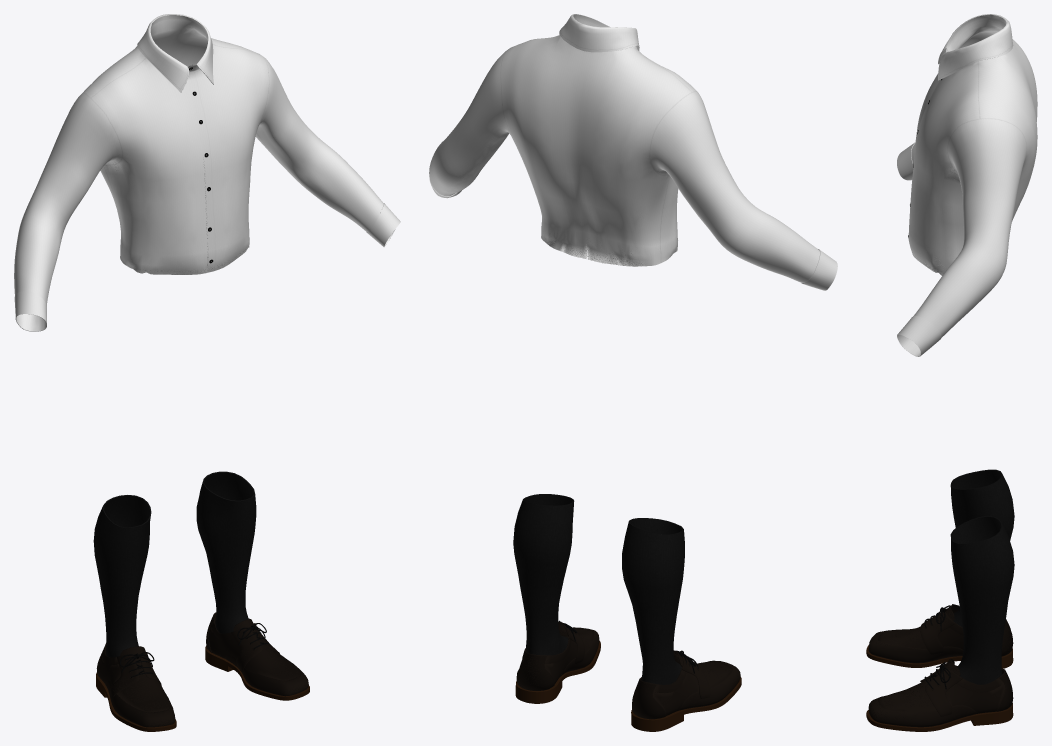
The model's file is SM_CarlosSA_FixedClothing_0001.fbx.
3 views of the same model, side by side, from view 1: azimuth 30°, elevation 25°; view 2: azimuth 150°, elevation 25°; view 3: azimuth 270°, elevation 25° (orthographic). The views are drawn at different scales.
Visible parts, largest first — view 1: SM_CarlosSA_FixedClothing_0001; view 2: SM_CarlosSA_FixedClothing_0001; view 3: SM_CarlosSA_FixedClothing_0001.
Part boxes in pixels (x1,y1,x2,y2): SM_CarlosSA_FixedClothing_0001: (14, 14, 400, 731); SM_CarlosSA_FixedClothing_0001: (429, 14, 837, 731); SM_CarlosSA_FixedClothing_0001: (866, 14, 1037, 731).
Bounding box in the file's own units: 0.9536 × 1.55 × 0.3615.
